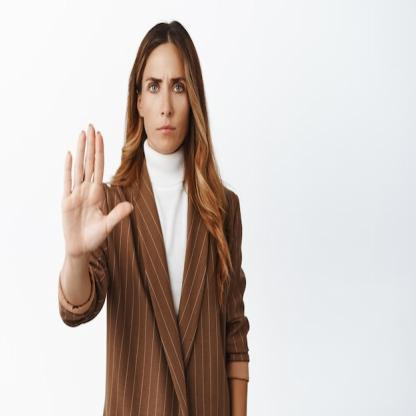stop: (61, 121, 136, 258)
